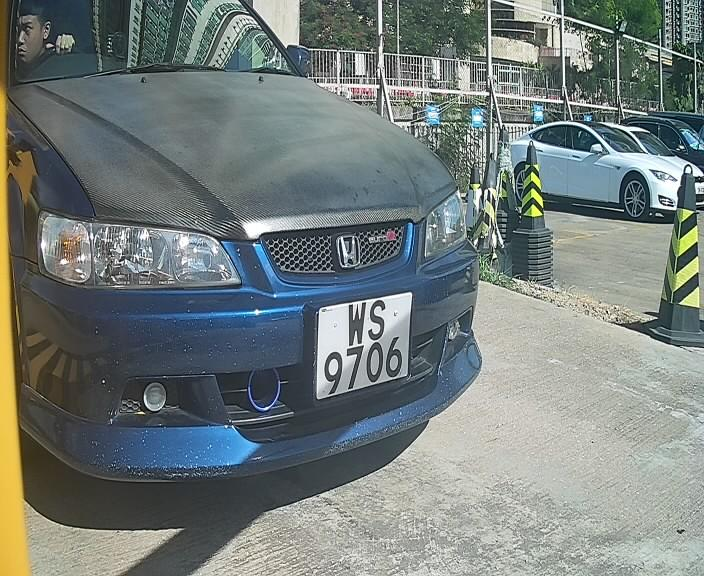Car: (1, 1, 535, 528)
License Plate: (309, 289, 415, 407)
